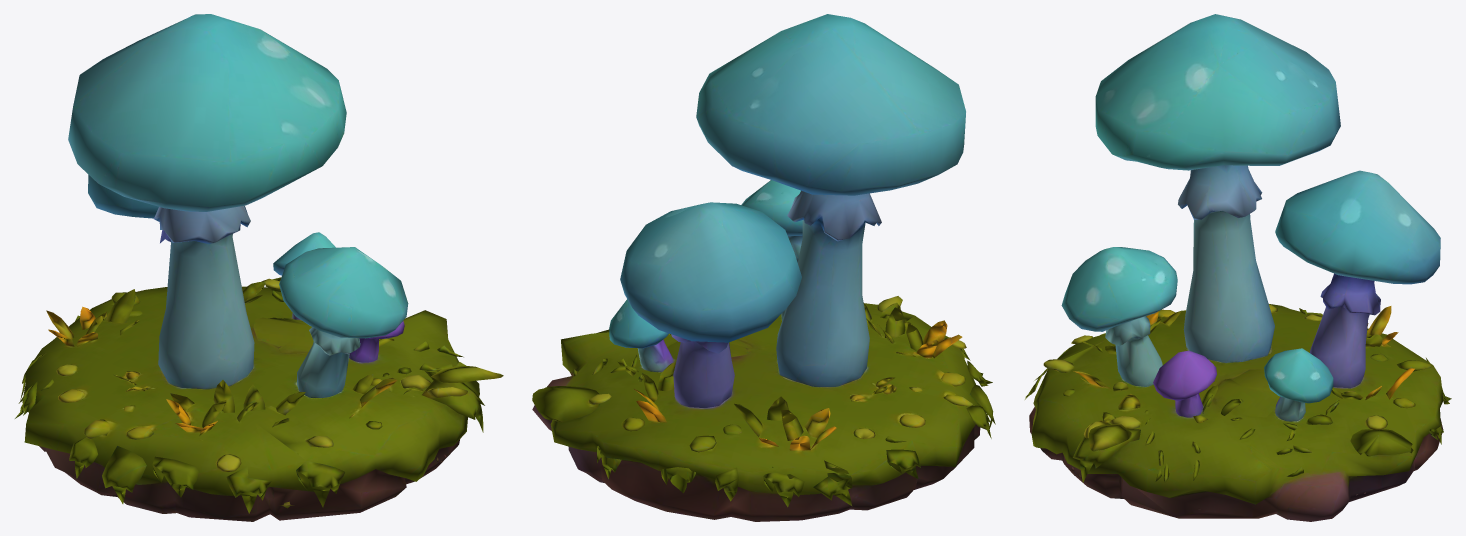
File: glow-mushroom-cluster.glb
3 views of the same model, side by side, from view 1: azimuth 30°, elevation 25°; view 2: azimuth 150°, elevation 25°; view 3: azimuth 270°, elevation 25° (orthographic). The views are drawn at different scales.
Visible parts, largest first — view 1: tripo_node_5feda393-07a3-45a4-b5c6-ec1177d4f056; view 2: tripo_node_5feda393-07a3-45a4-b5c6-ec1177d4f056; view 3: tripo_node_5feda393-07a3-45a4-b5c6-ec1177d4f056.
Part boxes in pixels (<box>): tripo_node_5feda393-07a3-45a4-b5c6-ec1177d4f056: <box>15,14,503,521</box>; tripo_node_5feda393-07a3-45a4-b5c6-ec1177d4f056: <box>532,14,995,521</box>; tripo_node_5feda393-07a3-45a4-b5c6-ec1177d4f056: <box>1025,14,1451,521</box>.
Size of the model in its own units: 0.998 by 0.998 by 0.9786.
Materials: 1 (1 with a texture image).
